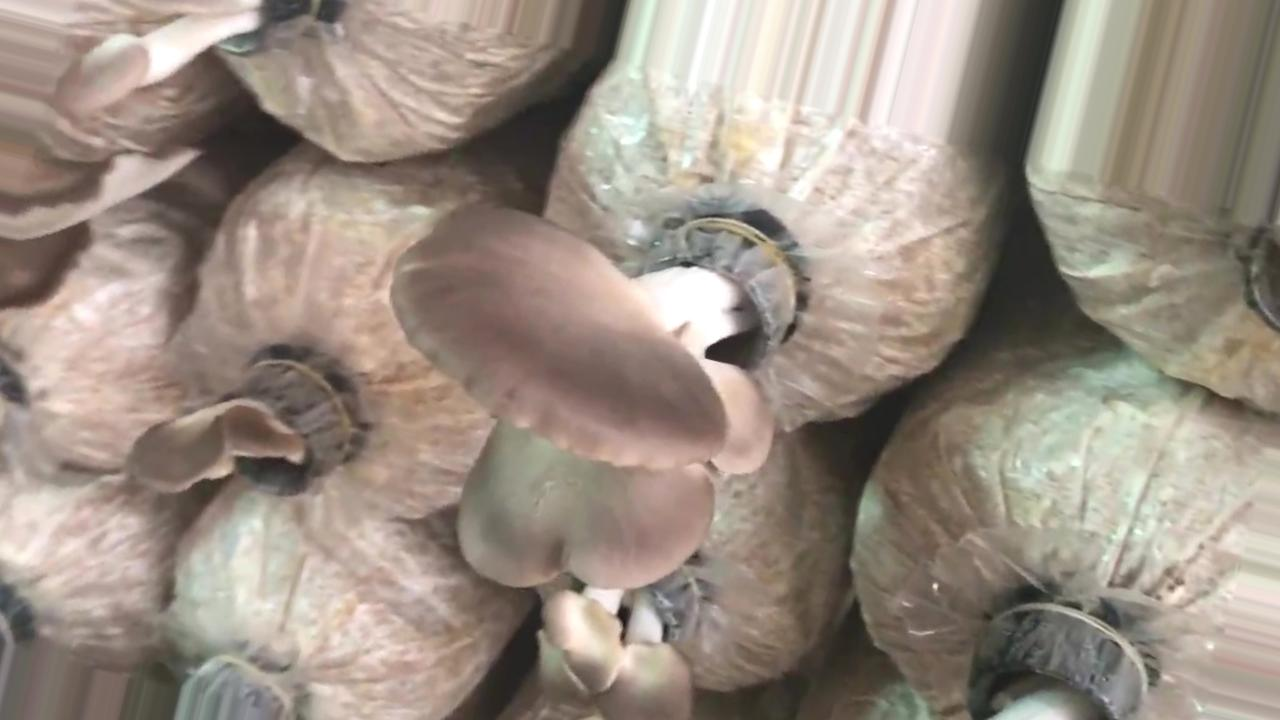nam: (391, 205, 795, 588), (54, 1, 336, 116), (125, 359, 350, 491), (539, 553, 698, 720)
